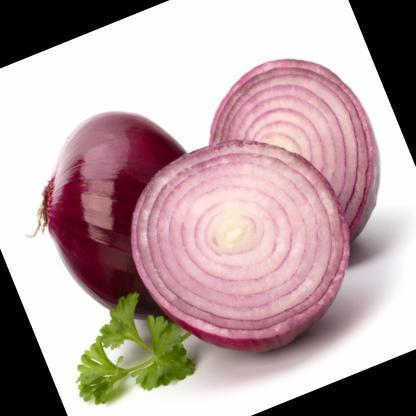onion: (4, 53, 262, 350)
